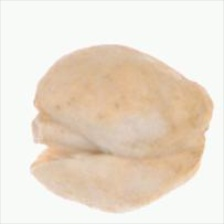L3: (26, 99, 109, 172)
L4: (28, 44, 214, 213)
